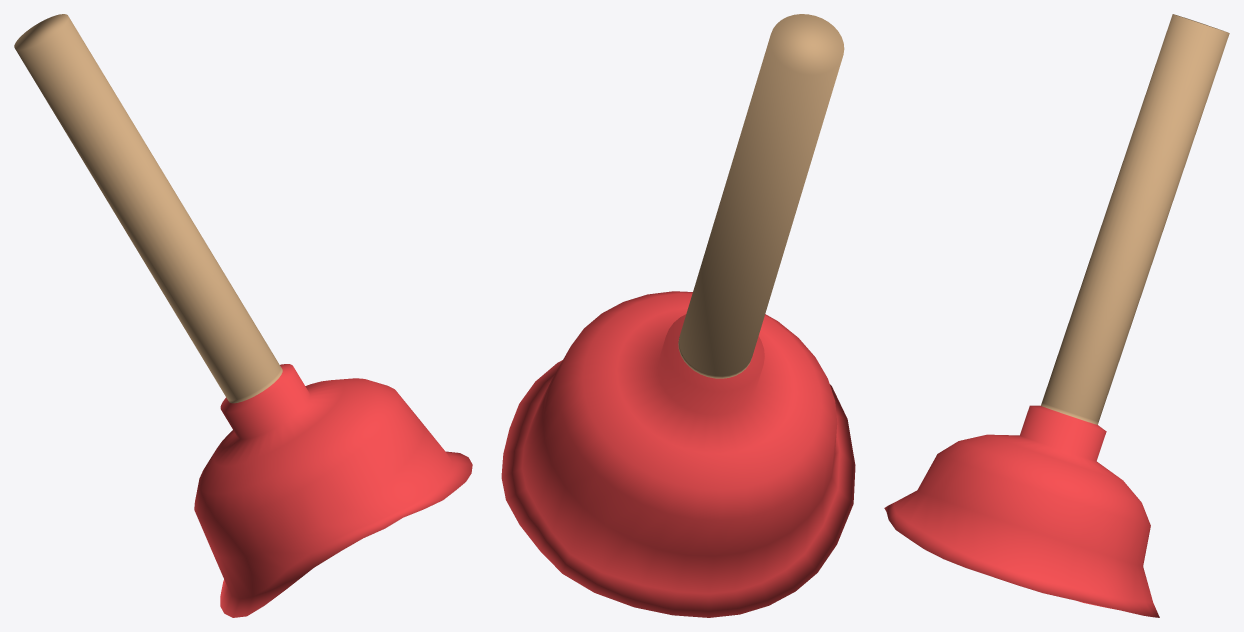
File: pompa.fbx
3 views of the same model, side by side, from view 1: azimuth 30°, elevation 25°; view 2: azimuth 150°, elevation 25°; view 3: azimuth 270°, elevation 25° (orthographic). The views are drawn at different scales.
Parts seen in each view (by area): view 1: hair; view 2: hair; view 3: hair.
Boxes of the visible parts, <box> form: hair: <box>14,14,472,617</box>; hair: <box>501,14,855,617</box>; hair: <box>884,14,1229,617</box>.
Size of the model in its own units: 24.2 by 37.42 by 21.77.
